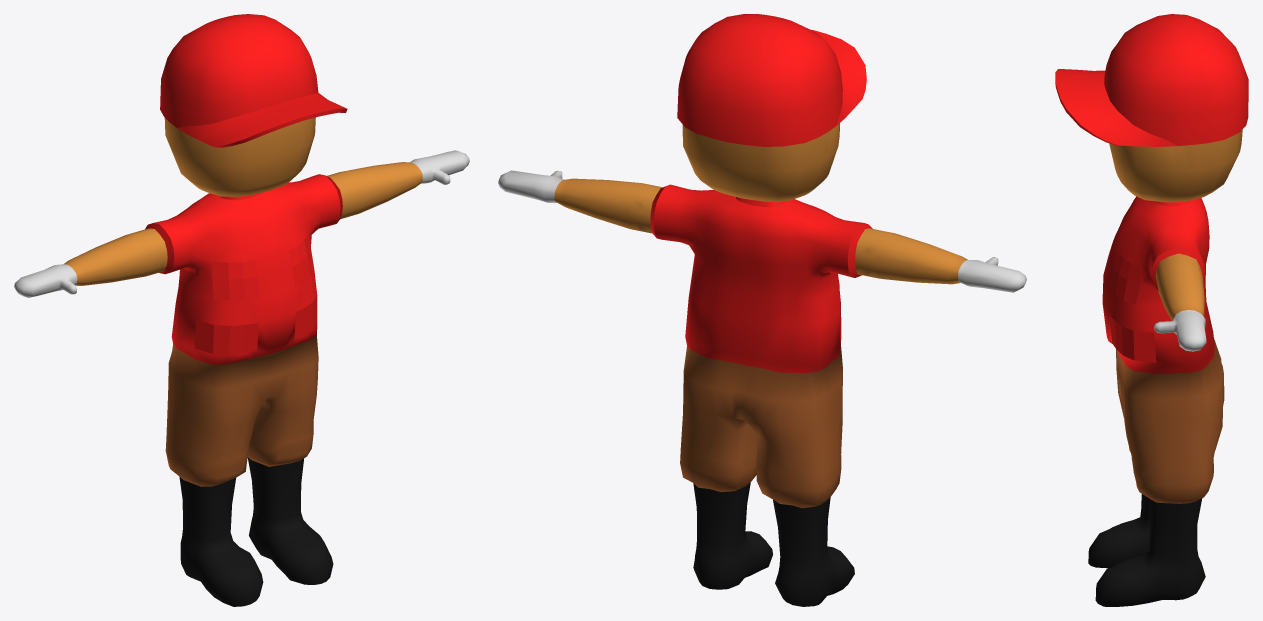
Rendered from sm_character.fbx.
The picture shows the model from 3 angles, left to right: view 1: azimuth 30°, elevation 25°; view 2: azimuth 150°, elevation 25°; view 3: azimuth 270°, elevation 25°; orthographic projection. The views are drawn at different scales.
Visible parts, largest first — view 1: Object001; view 2: Object001; view 3: Object001.
Boxes of the visible parts, x1=… form: Object001: x1=14, y1=14, x2=469, y2=606; Object001: x1=498, y1=14, x2=1026, y2=606; Object001: x1=1055, y1=14, x2=1248, y2=606.
Size of the model in its own units: 52.81 by 57.92 by 18.3.
